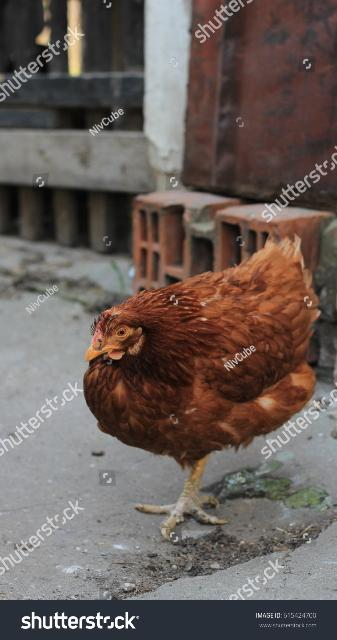Chicken: (83, 234, 324, 539)
